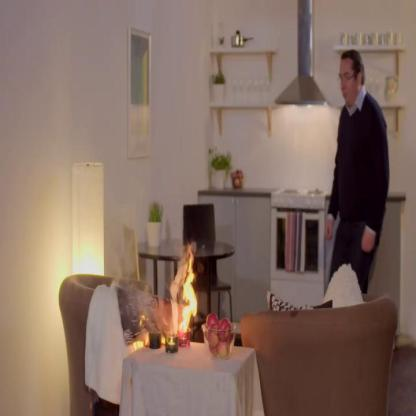fire: (180, 256, 198, 333)
